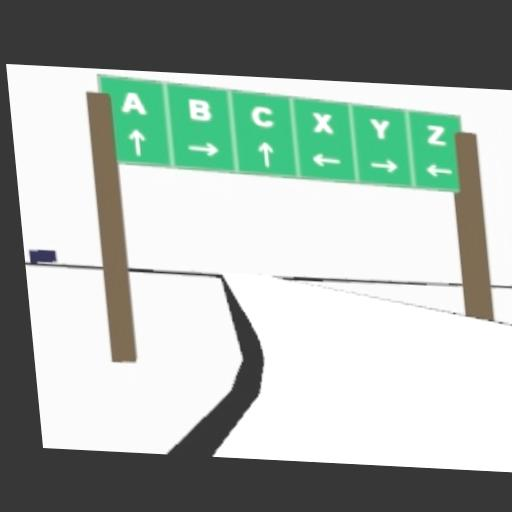A: (119, 91, 145, 114)
B: (186, 97, 211, 120)
C: (250, 104, 274, 128)
Left: (311, 152, 341, 168), (426, 163, 453, 177)
Right: (187, 140, 219, 156), (369, 158, 399, 172)
Straight: (128, 127, 146, 154), (257, 141, 276, 166)
X: (310, 111, 333, 133)
Y: (369, 117, 390, 139)
Z: (425, 123, 446, 145)
